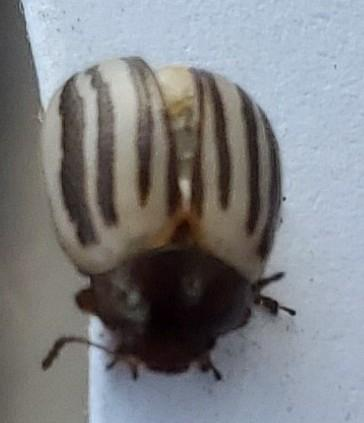potato_beetle: (0, 28, 339, 423)
